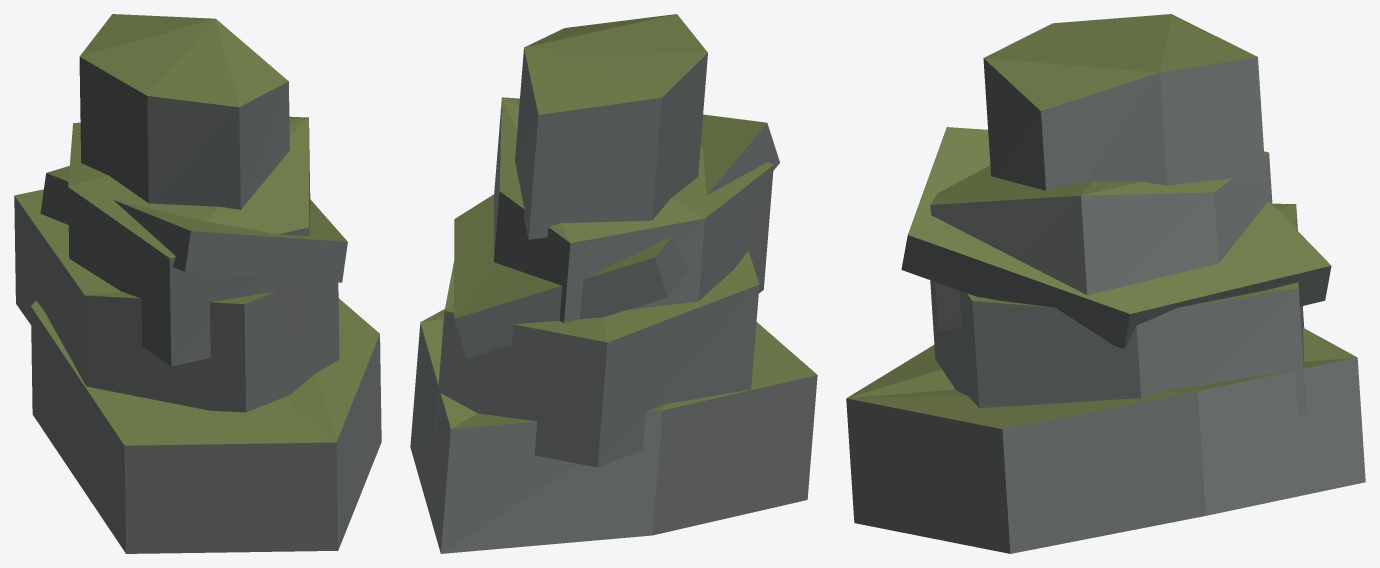
Rendered from rock.block__crusted__winter.glb.
3 views of the same model, side by side, from view 1: azimuth 30°, elevation 25°; view 2: azimuth 150°, elevation 25°; view 3: azimuth 270°, elevation 25° (orthographic). The views are drawn at different scales.
Parts seen in each view (by area): view 1: rock.block; view 2: rock.block; view 3: rock.block.
Boxes of the visible parts, x1=… form: rock.block: x1=14, y1=14, x2=381, y2=553; rock.block: x1=410, y1=14, x2=817, y2=553; rock.block: x1=846, y1=14, x2=1365, y2=553.
Size of the model in its own units: 1.22 by 1.82 by 1.84.
